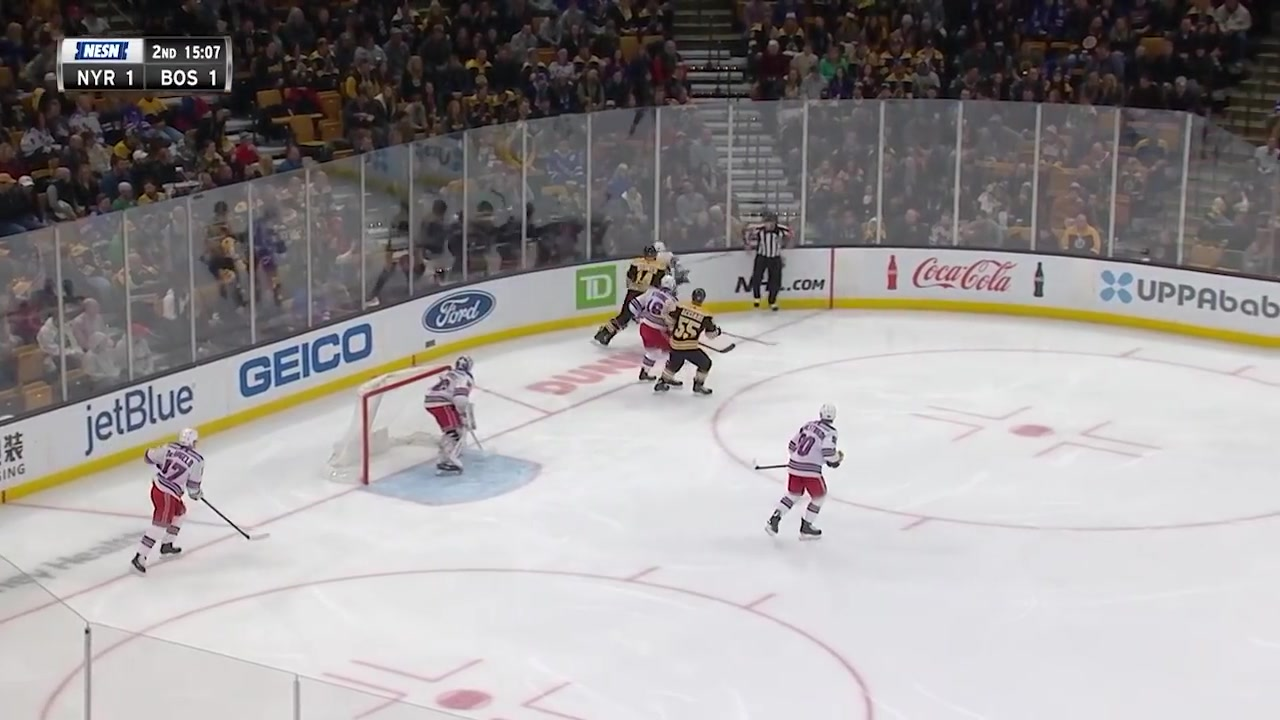Geico: (238, 316, 382, 397)
